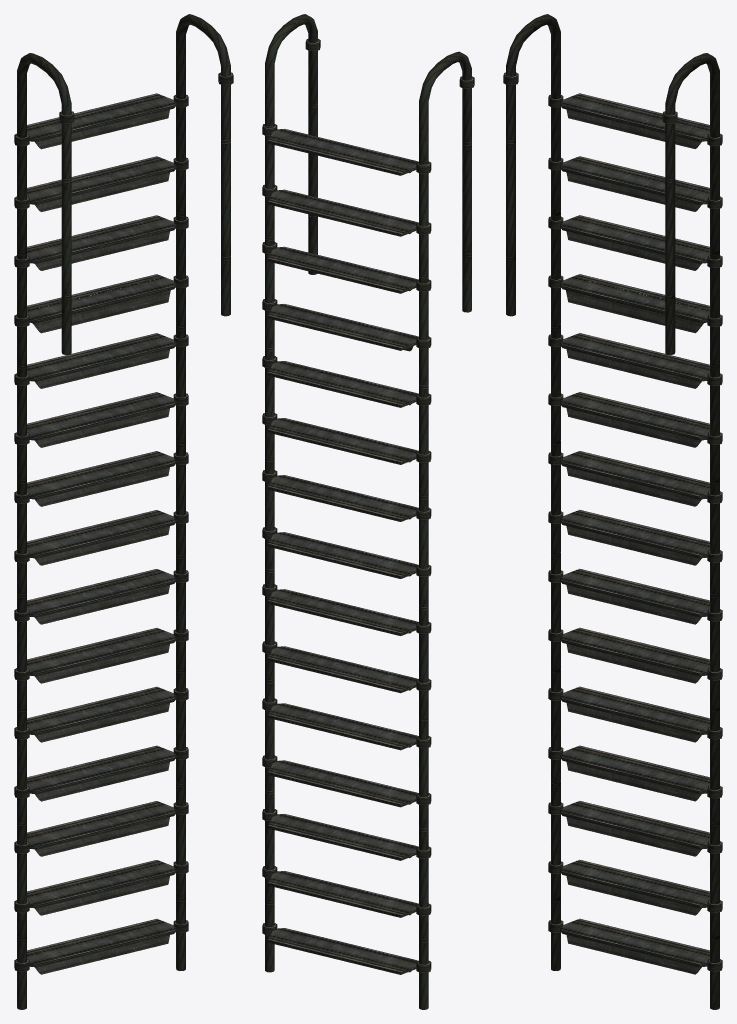
The model's file is tesla_structure_catwalk_ladder_03.dae.
3 renders of one model, left to right at view 1: azimuth 30°, elevation 25°; view 2: azimuth 150°, elevation 25°; view 3: azimuth 330°, elevation 25°, orthographic. The views are drawn at different scales.
Visible parts, largest first — view 1: polySurface180; view 2: polySurface180; view 3: polySurface180.
Boxes of the visible parts, bbox=[...] form: polySurface180: bbox=[14, 14, 233, 1009]; polySurface180: bbox=[262, 14, 474, 1009]; polySurface180: bbox=[503, 14, 722, 1009].
Bounding box in the file's own units: 92.01 × 491 × 56.97.
